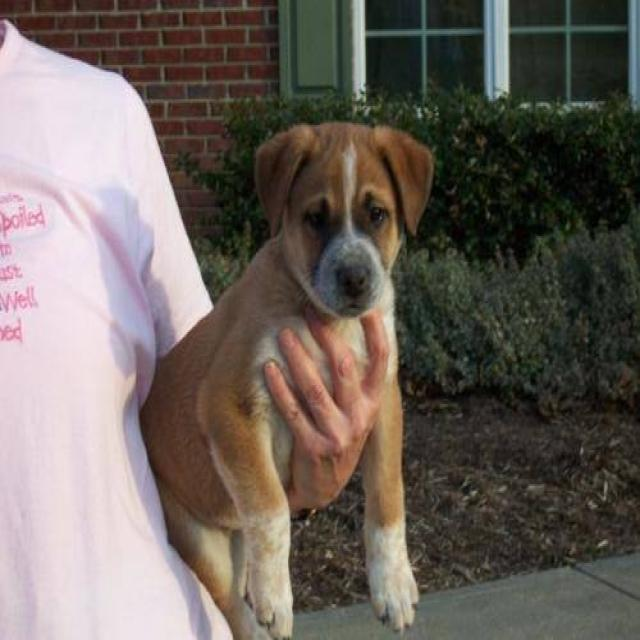dog: (137, 118, 434, 638)
